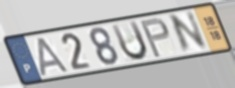2: (60, 31, 94, 72)
8: (88, 26, 120, 67)
A: (36, 35, 71, 78)
N: (167, 9, 210, 56)
P: (138, 16, 172, 60)
U: (109, 19, 150, 63)
